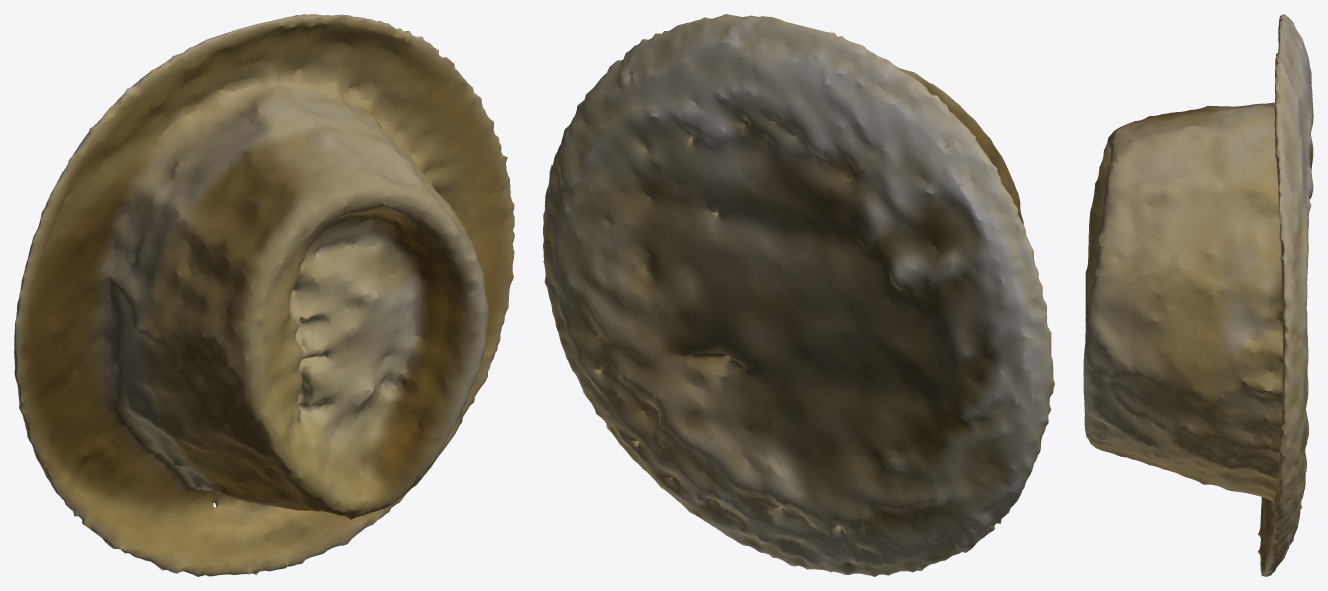
Rendered from hat.glb.
The picture shows the model from 3 angles, left to right: view 1: azimuth 30°, elevation 25°; view 2: azimuth 150°, elevation 25°; view 3: azimuth 270°, elevation 25°; orthographic projection. The views are drawn at different scales.
Bounding box in the file's own units: 0.9608 × 0.9933 × 0.4078.
